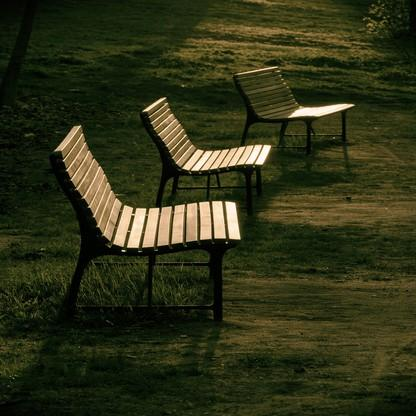obstacle: (40, 119, 244, 329), (248, 50, 361, 182)
